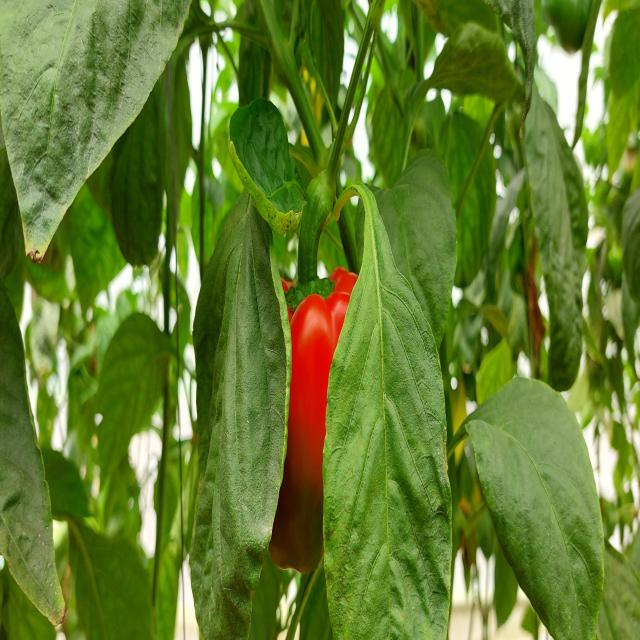BrownishRed--Can-be-Harvested: (255, 249, 388, 594)
